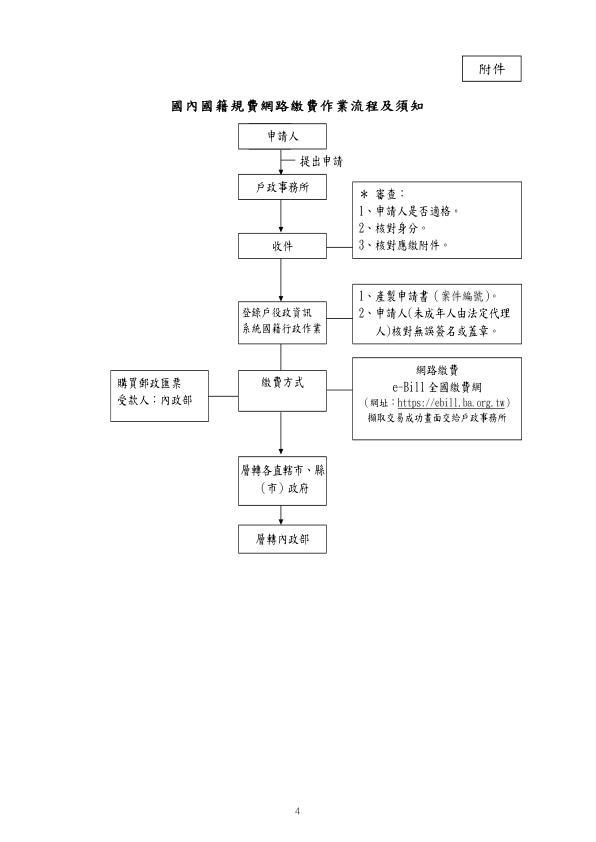text: (169, 94, 429, 119), (470, 55, 510, 80)
